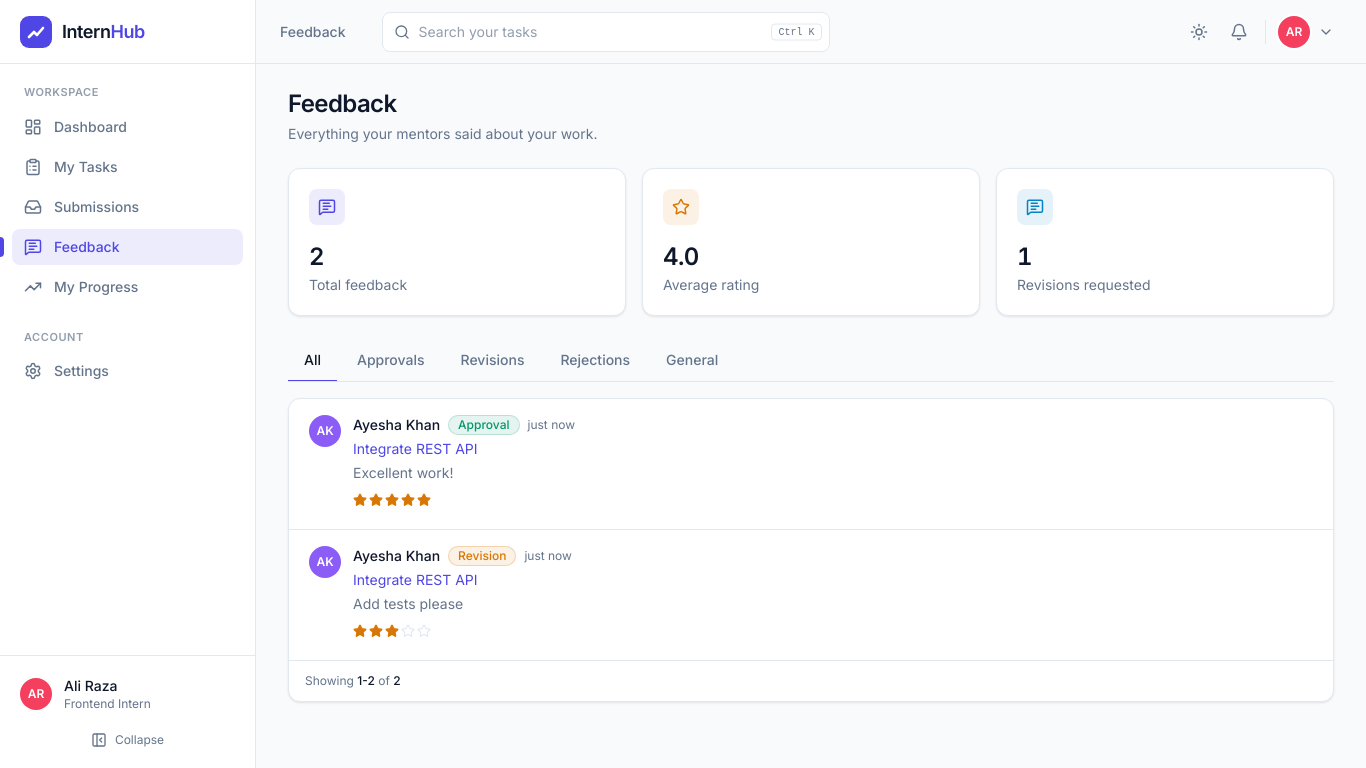
Test: feedback page › shows stats and filters by type
Expected: the text "Excellent work!" is shown, [353, 464, 453, 481]
Expected: the text "4.0" is shown, [663, 242, 699, 271]
Step 1. Click the tab "Revisions" → (492, 361), box [444, 340, 540, 382]
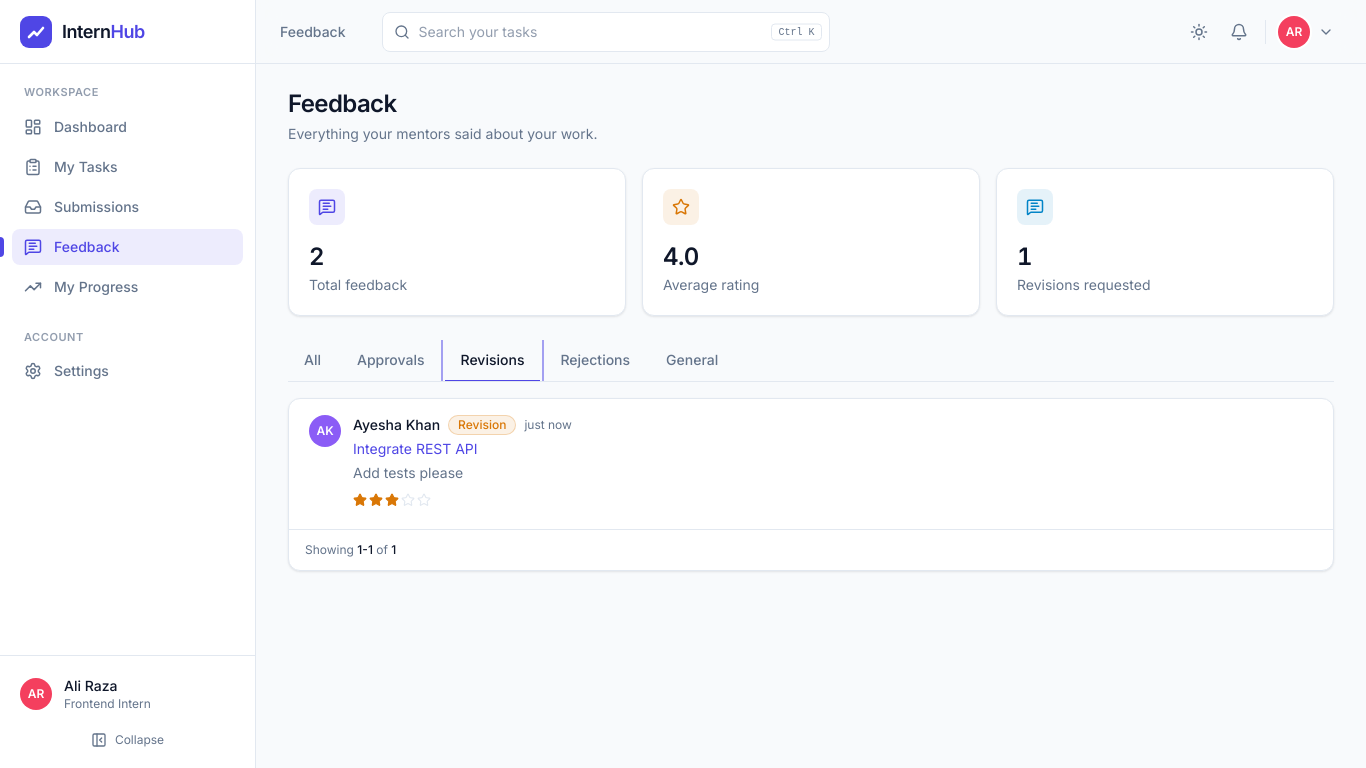
Expected: the text "Add tests please" is shown, [353, 464, 463, 481]
Expected: the text "Excellent work!" is gone
